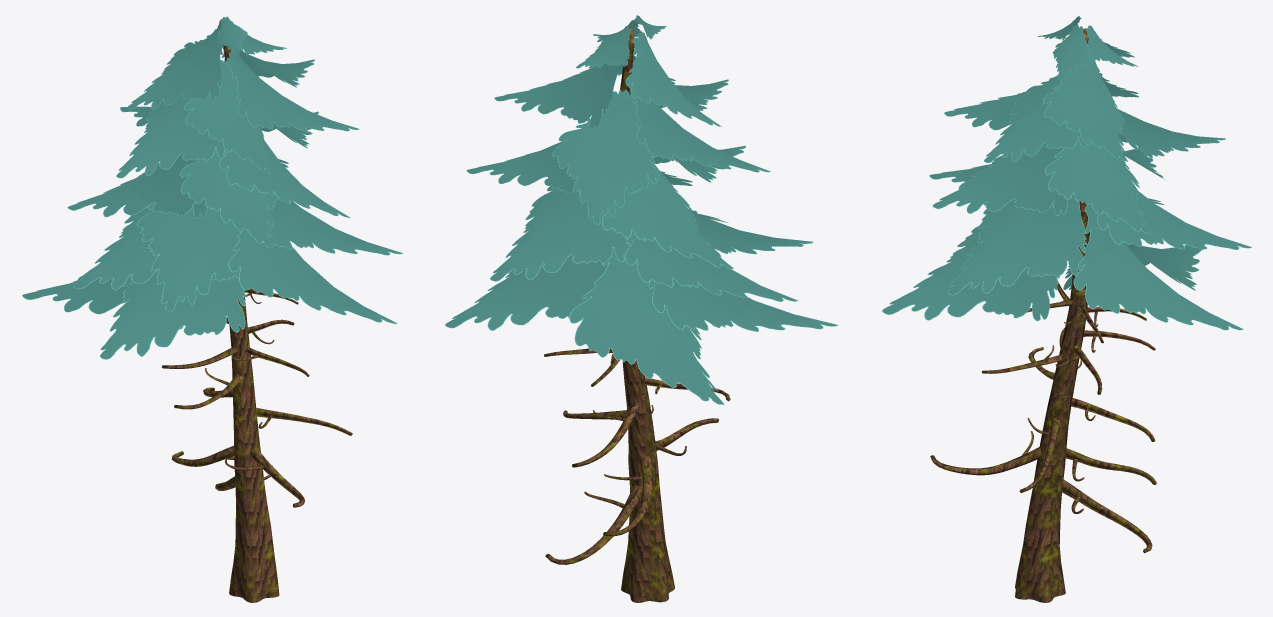
The model's file is gtree_pine_3.glb.
3 views of the same model, side by side, from view 1: azimuth 30°, elevation 25°; view 2: azimuth 150°, elevation 25°; view 3: azimuth 270°, elevation 25° (orthographic). The views are drawn at different scales.
Parts seen in each view (by area): view 1: model; view 2: model; view 3: model.
Part boxes in pixels (left/top/right/bottom): model: left=22, top=16, right=402, bottom=602; model: left=445, top=15, right=838, bottom=602; model: left=882, top=16, right=1251, bottom=602.
Size of the model in its own units: 3.83 by 7 by 4.24.
Materials: 2 (2 with a texture image).
